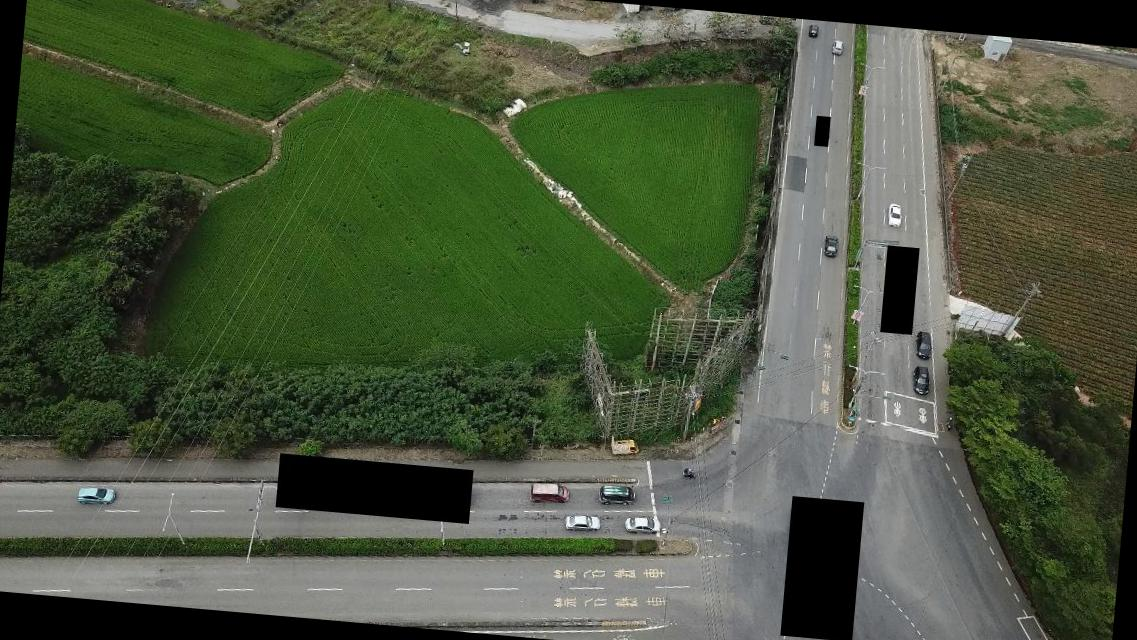vehicle: (529, 481, 569, 506), (597, 482, 635, 506), (563, 512, 602, 532), (76, 486, 115, 505), (624, 514, 661, 534), (913, 330, 934, 360), (910, 366, 929, 396), (884, 202, 902, 228), (820, 233, 837, 259), (614, 438, 638, 456), (830, 38, 844, 55), (807, 23, 818, 38)
